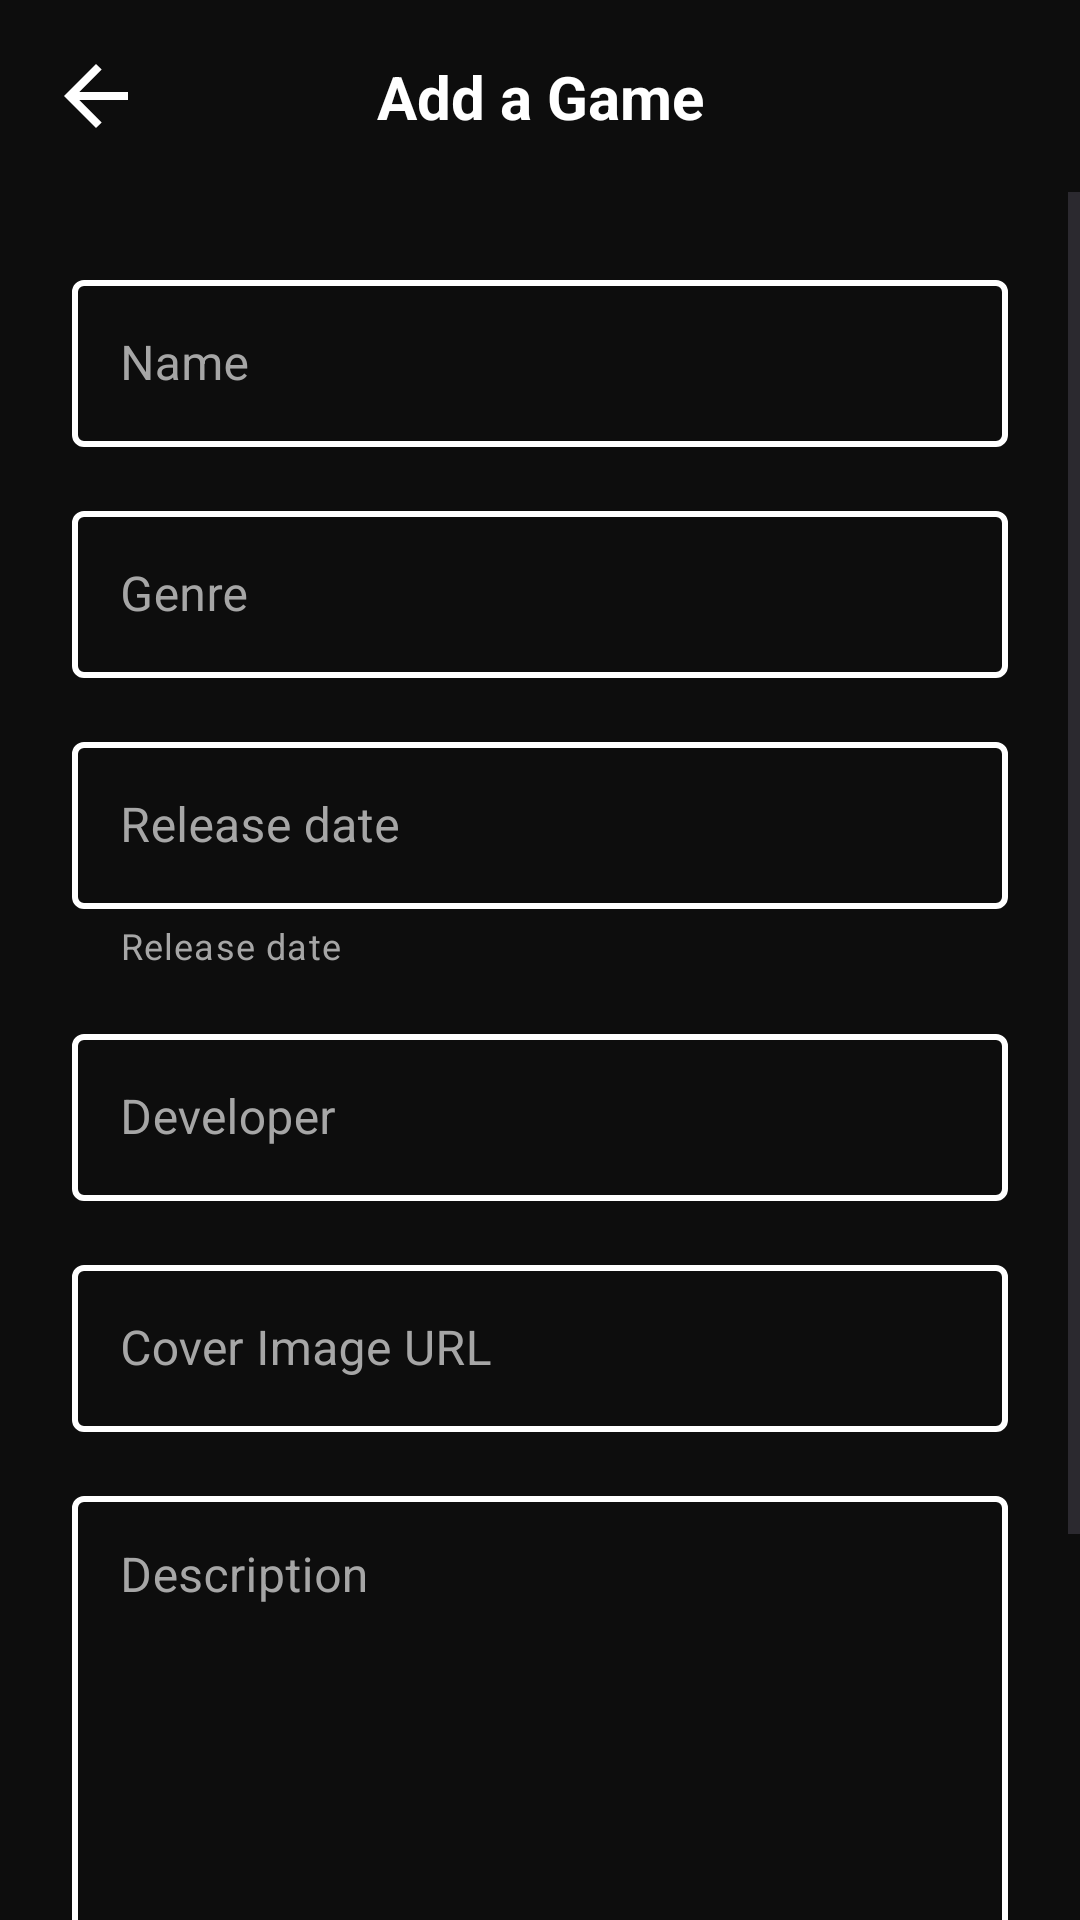

Point at icon controls on the screen. Image size 1080px x 1920px, points as (x,y).
Back: (96,96)
